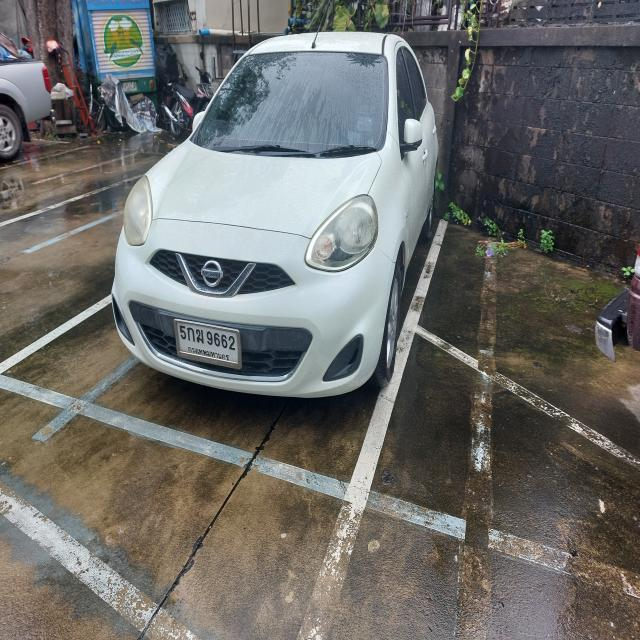license_plate: (172, 316, 243, 374)
